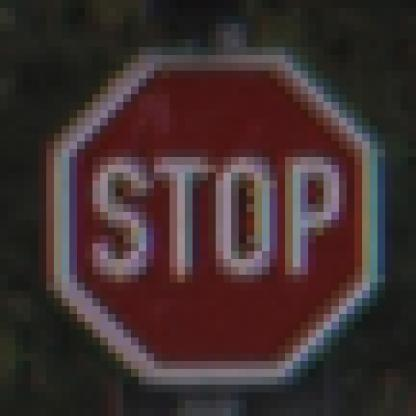Stop: (61, 51, 376, 379)
